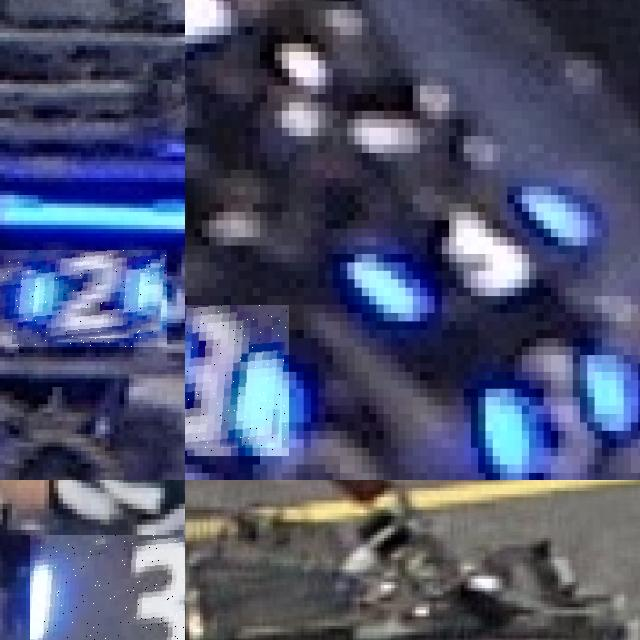B2: (0, 250, 167, 348)
B3: (478, 330, 631, 473), (30, 535, 185, 640), (185, 304, 288, 456)
